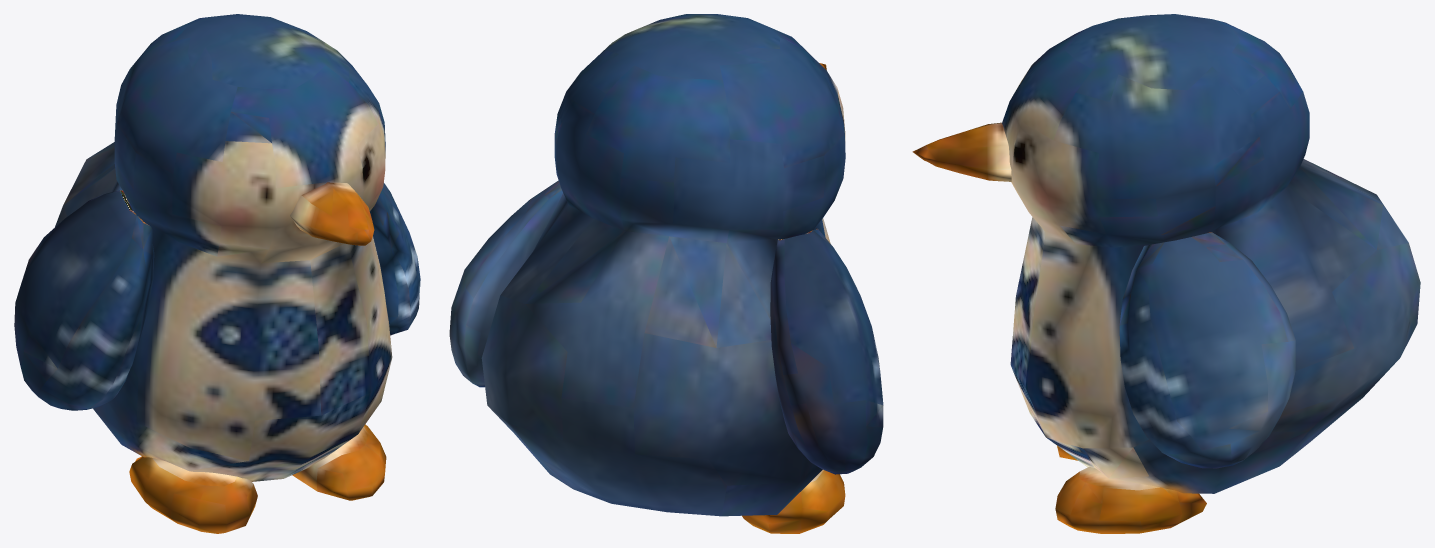
The model's file is penguin-01-42-fish-painted.gltf.
3 views of the same model, side by side, from view 1: azimuth 30°, elevation 25°; view 2: azimuth 150°, elevation 25°; view 3: azimuth 270°, elevation 25° (orthographic). The views are drawn at different scales.
Visible parts, largest first — view 1: penguin-01-42-fish-painted; view 2: penguin-01-42-fish-painted; view 3: penguin-01-42-fish-painted.
Boxes of the visible parts, <box> form: penguin-01-42-fish-painted: <box>14,14,420,533</box>; penguin-01-42-fish-painted: <box>449,14,883,533</box>; penguin-01-42-fish-painted: <box>912,14,1420,533</box>.
Size of the model in its own units: 0.2 by 0.2231 by 0.224.
1 material, 1 textured.
